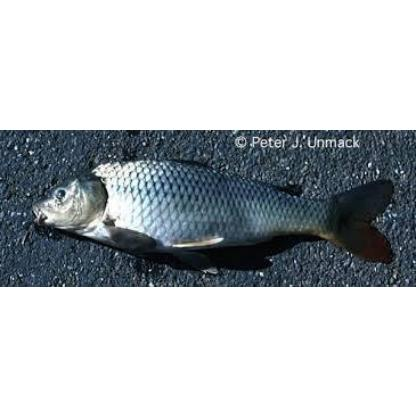ikan-mas: (30, 160, 392, 260)
